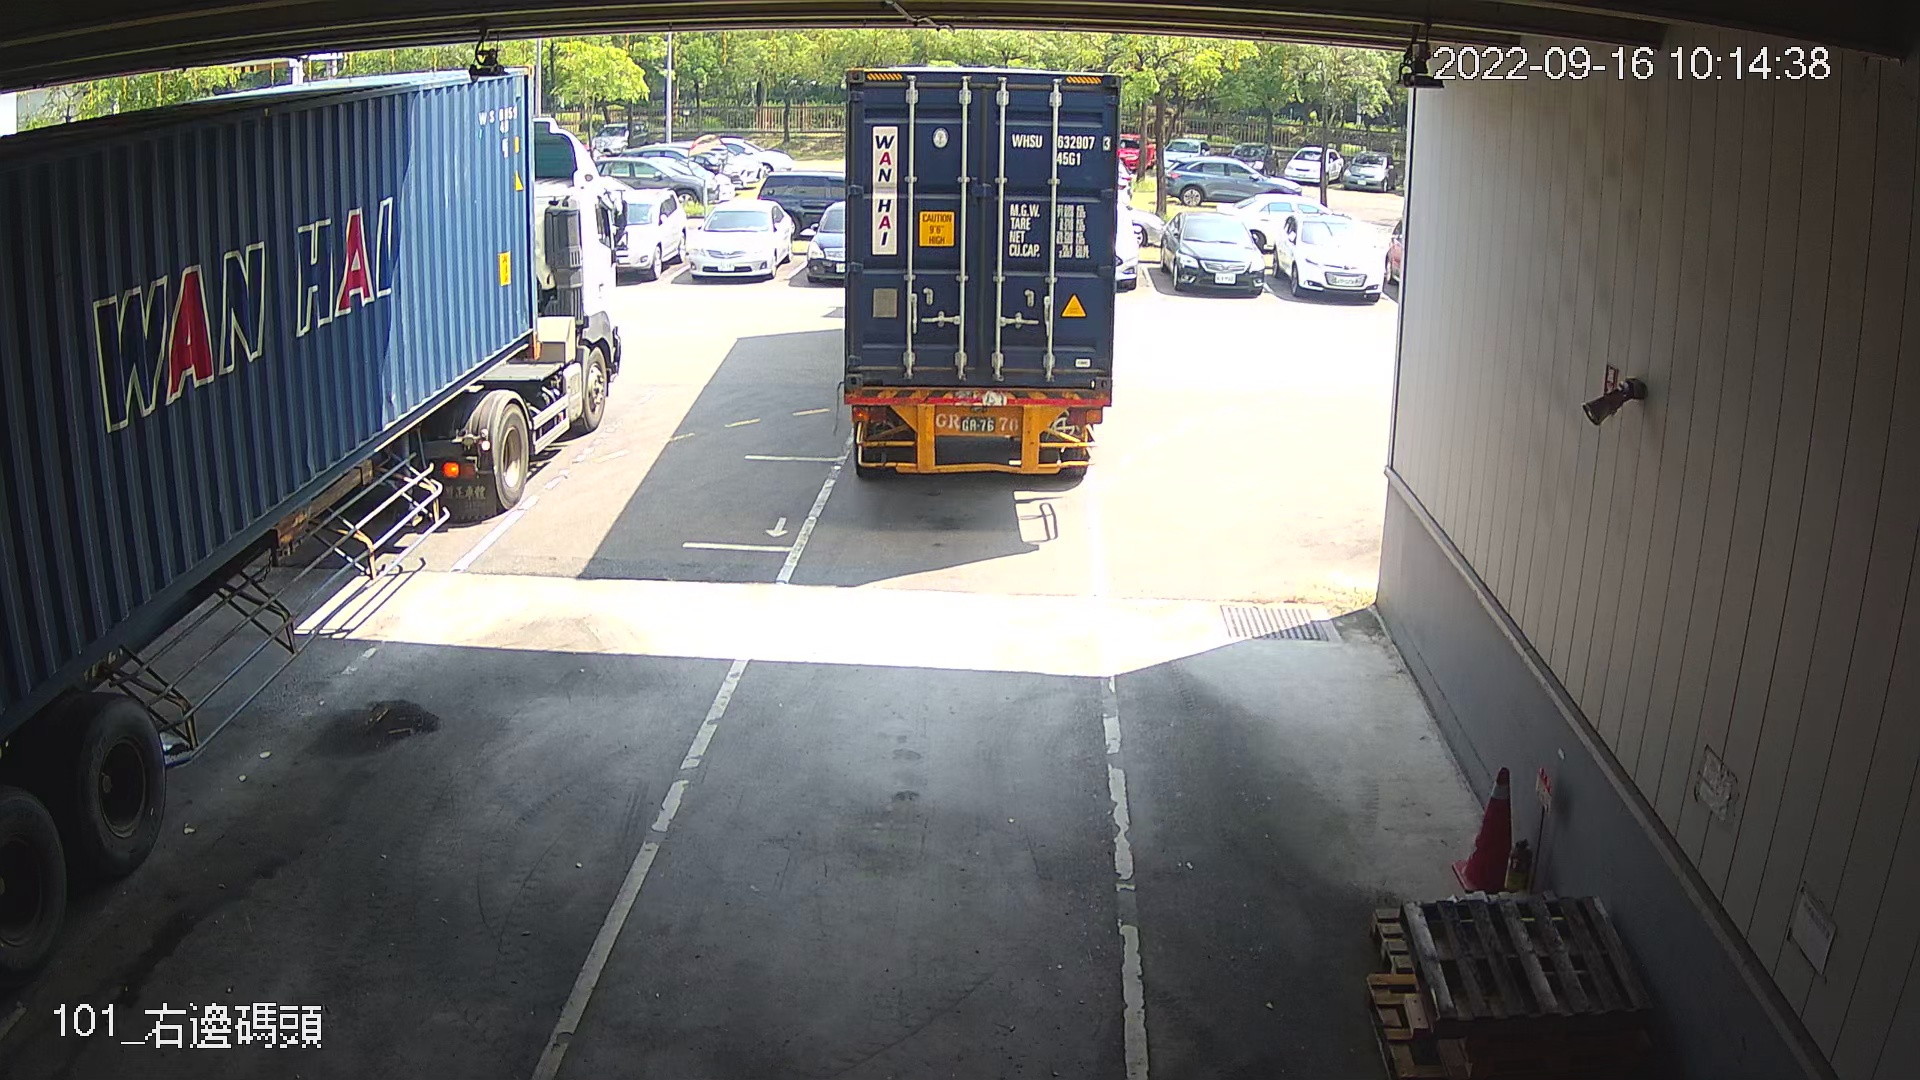container: (1009, 127, 1114, 171)
